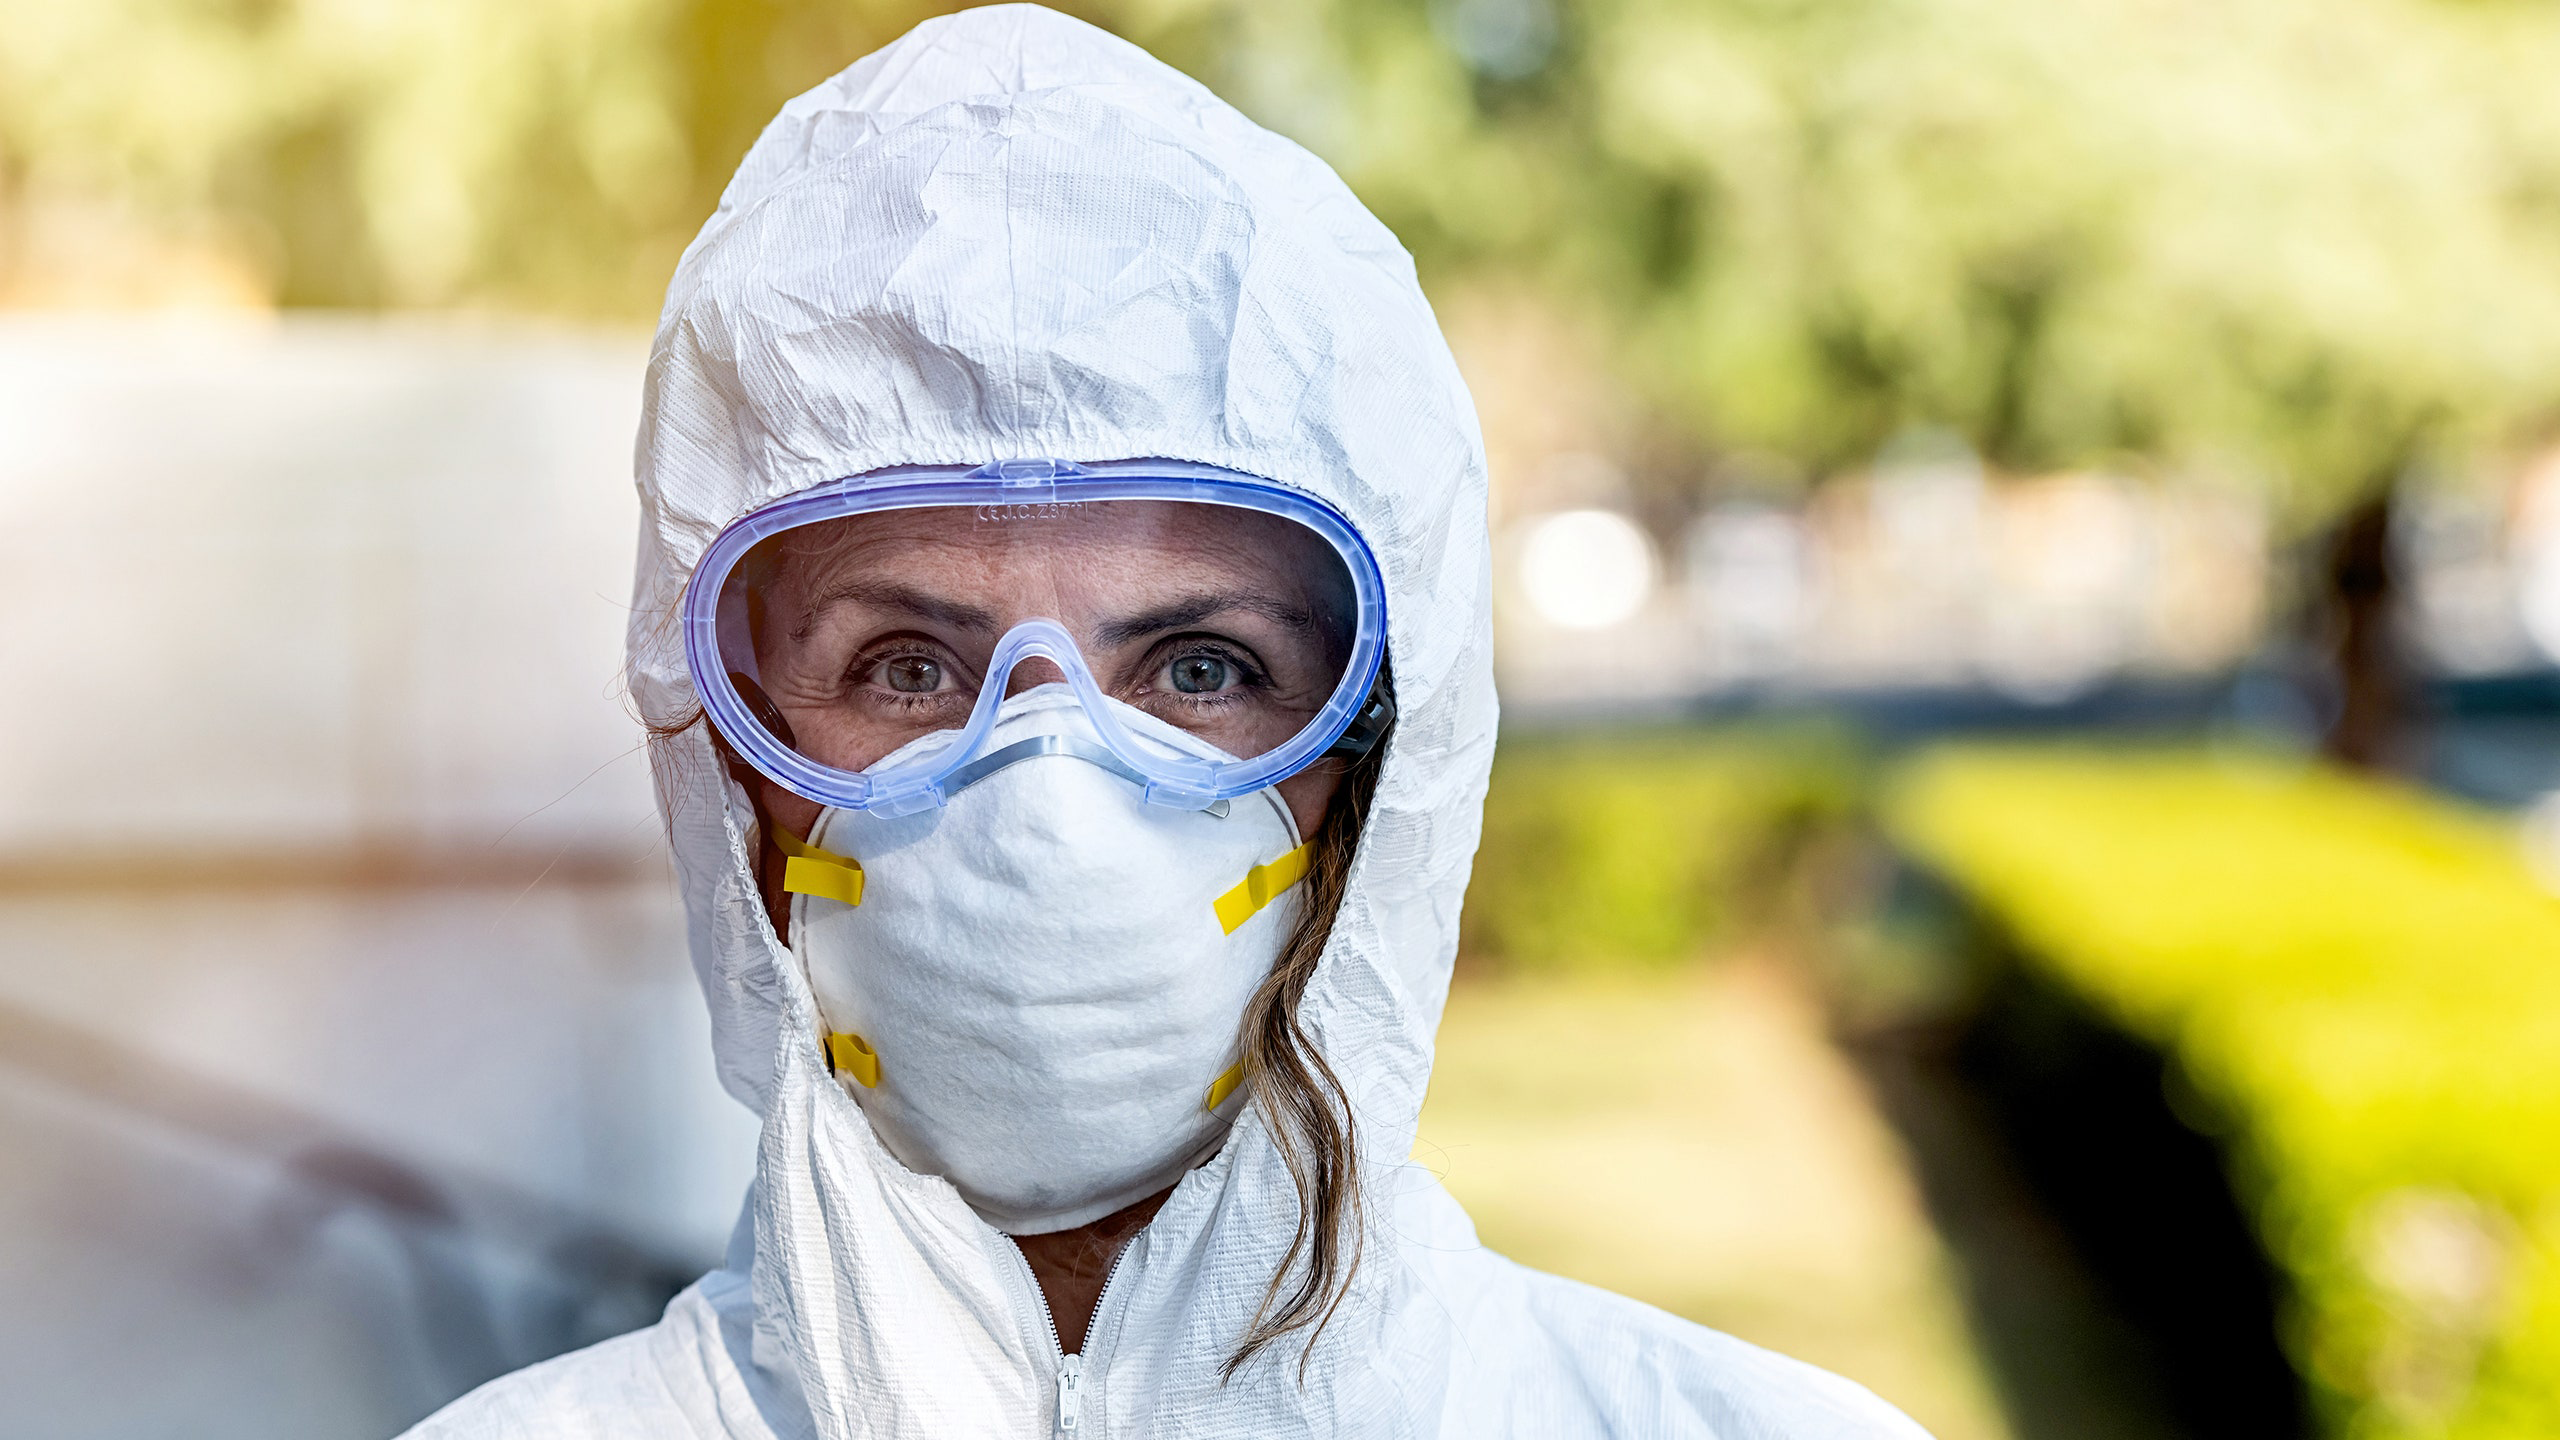Goggles: (658, 462, 1396, 800)
with_mask: (722, 508, 1403, 1241)
